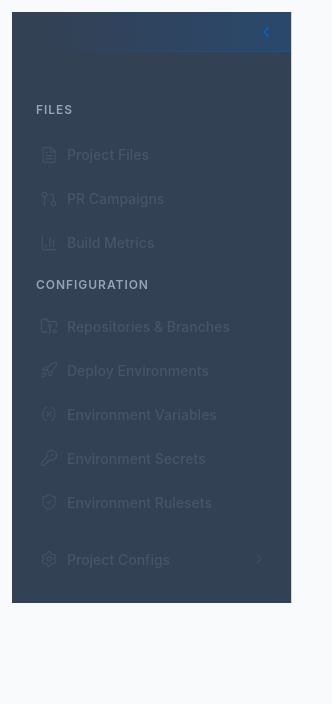
Test: Sidebar › standard project shows Project Info nav item inside Project Configs
This screenshot has width=332, height=704.
Click the button "Project Configs".
click(152, 559)  # box [12, 539, 291, 579]
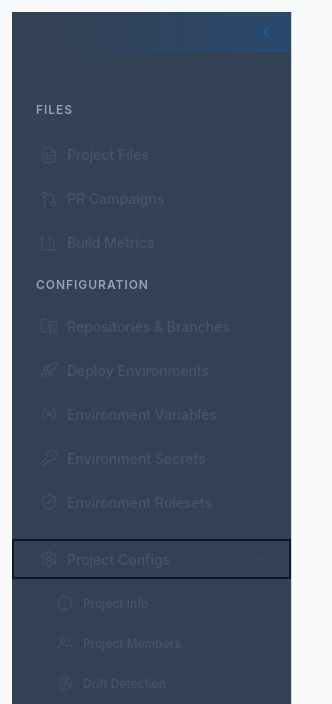
Now the button "Project Info" is shown, box [12, 583, 291, 623]
